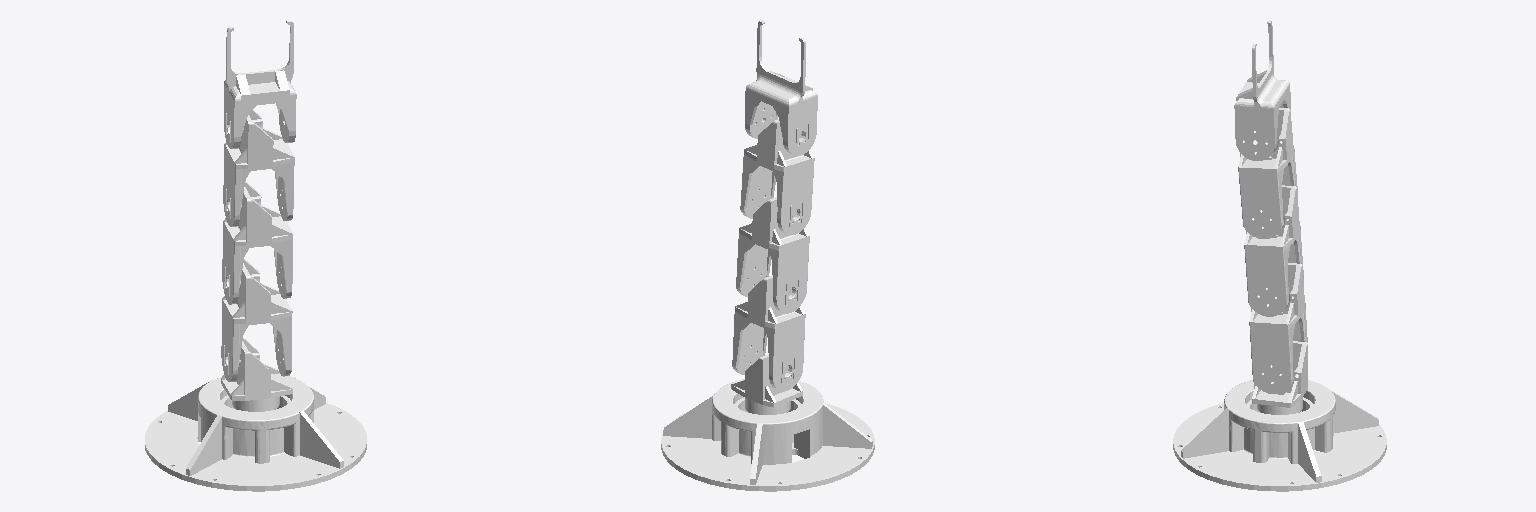
The robot description file, URDF, robot "myarm":
<robot
  name="myarm">
  <link
    name="base_link">
    <inertial>
      <origin
        xyz="0.27085 -0.053615 -0.26586"
        rpy="0 0 0" />
      <mass
        value="0.354" />
      <inertia
        ixx="0.00060153"
        ixy="2.9029E-06"
        ixz="-2.7643E-07"
        iyy="0.0010552"
        iyz="1.3951E-06"
        izz="0.00059939" />
    </inertial>
    <visual>
      <origin
        xyz="0 0 0"
        rpy="0 0 0" />
      <geometry>
        <mesh
          filename="package://myarm/meshes/base_link.STL" />
      </geometry>
      <material
        name="">
        <color
          rgba="1 1 1 1" />
      </material>
    </visual>
    <collision>
      <origin
        xyz="0 0 0"
        rpy="0 0 0" />
      <geometry>
        <mesh
          filename="package://myarm/meshes/base_link.STL" />
      </geometry>
    </collision>
  </link>
  <link
    name="Link0">
    <inertial>
      <origin
        xyz="0.0028026 0.013893 -1.2684E-06"
        rpy="0 0 0" />
      <mass
        value="0.045443" />
      <inertia
        ixx="1.6117E-05"
        ixy="-2.2584E-06"
        ixz="-4.8228E-11"
        iyy="1.3983E-05"
        iyz="8.439E-10"
        izz="1.439E-05" />
    </inertial>
    <visual>
      <origin
        xyz="0 0 0"
        rpy="0 0 0" />
      <geometry>
        <mesh
          filename="package://myarm/meshes/Link0.STL" />
      </geometry>
      <material
        name="">
        <color
          rgba="1 1 1 1" />
      </material>
    </visual>
    <collision>
      <origin
        xyz="0 0 0"
        rpy="0 0 0" />
      <geometry>
        <mesh
          filename="package://myarm/meshes/Link0.STL" />
      </geometry>
    </collision>
  </link>
  <joint
    name="joint0"
    type="revolute">
    <origin
      xyz="0.27135 0.26556 -0.023642"
      rpy="1.5708 1.6316E-17 2.872" />
    <parent
      link="base_link" />
    <child
      link="Link0" />
    <axis
      xyz="0 1 0" />
    <limit
      lower="-2.36"
      upper="2.36"
      effort="0"
      velocity="0" />
  </joint>
  <link
    name="Link1">
    <inertial>
      <origin
        xyz="-1.8999E-09 0.038517 0.023376"
        rpy="0 0 0" />
      <mass
        value="0.059624" />
      <inertia
        ixx="5.7861E-05"
        ixy="-2.4536E-11"
        ixz="-1.5929E-12"
        iyy="2.9224E-05"
        iyz="4.6677E-06"
        izz="4.8415E-05" />
    </inertial>
    <visual>
      <origin
        xyz="0 0 0"
        rpy="0 0 0" />
      <geometry>
        <mesh
          filename="package://myarm/meshes/Link1.STL" />
      </geometry>
      <material
        name="">
        <color
          rgba="1 1 1 1" />
      </material>
    </visual>
    <collision>
      <origin
        xyz="0 0 0"
        rpy="0 0 0" />
      <geometry>
        <mesh
          filename="package://myarm/meshes/Link1.STL" />
      </geometry>
    </collision>
  </link>
  <joint
    name="joint1"
    type="revolute">
    <origin
      xyz="0.0254 0.0365 0"
      rpy="-1.5708 -1.5136 1.5708" />
    <parent
      link="Link0" />
    <child
      link="Link1" />
    <axis
      xyz="0 0 1" />
    <limit
      lower="-2.36"
      upper="2.36"
      effort="0"
      velocity="0" />
  </joint>
  <link
    name="Link2">
    <inertial>
      <origin
        xyz="-1.5797E-09 0.038517 0.023376"
        rpy="0 0 0" />
      <mass
        value="0.059624" />
      <inertia
        ixx="5.7861E-05"
        ixy="-2.47E-11"
        ixz="-1.6726E-12"
        iyy="2.9224E-05"
        iyz="4.6677E-06"
        izz="4.8415E-05" />
    </inertial>
    <visual>
      <origin
        xyz="0 0 0"
        rpy="0 0 0" />
      <geometry>
        <mesh
          filename="package://myarm/meshes/Link2.STL" />
      </geometry>
      <material
        name="">
        <color
          rgba="1 1 1 1" />
      </material>
    </visual>
    <collision>
      <origin
        xyz="0 0 0"
        rpy="0 0 0" />
      <geometry>
        <mesh
          filename="package://myarm/meshes/Link2.STL" />
      </geometry>
    </collision>
  </link>
  <joint
    name="joint2"
    type="revolute">
    <origin
      xyz="0 0.0745 -0.0004"
      rpy="2.3107E-15 5.5511E-17 0.010465" />
    <parent
      link="Link1" />
    <child
      link="Link2" />
    <axis
      xyz="0 0 1" />
    <limit
      lower="-2.36"
      upper="2.36"
      effort="0"
      velocity="0" />
  </joint>
  <link
    name="Link3">
    <inertial>
      <origin
        xyz="-1.2897E-08 0.038517 0.023376"
        rpy="0 0 0" />
      <mass
        value="0.059624" />
      <inertia
        ixx="5.7861E-05"
        ixy="-3.4206E-11"
        ixz="-1.1624E-11"
        iyy="2.9224E-05"
        iyz="4.6677E-06"
        izz="4.8415E-05" />
    </inertial>
    <visual>
      <origin
        xyz="0 0 0"
        rpy="0 0 0" />
      <geometry>
        <mesh
          filename="package://myarm/meshes/Link3.STL" />
      </geometry>
      <material
        name="">
        <color
          rgba="1 1 1 1" />
      </material>
    </visual>
    <collision>
      <origin
        xyz="0 0 0"
        rpy="0 0 0" />
      <geometry>
        <mesh
          filename="package://myarm/meshes/Link3.STL" />
      </geometry>
    </collision>
  </link>
  <joint
    name="joint3"
    type="revolute">
    <origin
      xyz="0 0.0745 -0.0004"
      rpy="-4.9266E-16 -1.6653E-16 0.011929" />
    <parent
      link="Link2" />
    <child
      link="Link3" />
    <axis
      xyz="0 0 1" />
    <limit
      lower="-2.36"
      upper="2.36"
      effort="0"
      velocity="0" />
  </joint>
  <link
    name="Link4">
    <inertial>
      <origin
        xyz="-0.00019736 0.02219 0.027134"
        rpy="0 0 0" />
      <mass
        value="0.041798" />
      <inertia
        ixx="3.3475E-05"
        ixy="9.0738E-08"
        ixz="-1.106E-09"
        iyy="2.3209E-05"
        iyz="1.5196E-07"
        izz="1.9479E-05" />
    </inertial>
    <visual>
      <origin
        xyz="0 0 0"
        rpy="0 0 0" />
      <geometry>
        <mesh
          filename="package://myarm/meshes/Link4.STL" />
      </geometry>
      <material
        name="">
        <color
          rgba="1 1 1 1" />
      </material>
    </visual>
    <collision>
      <origin
        xyz="0 0 0"
        rpy="0 0 0" />
      <geometry>
        <mesh
          filename="package://myarm/meshes/Link4.STL" />
      </geometry>
    </collision>
  </link>
  <joint
    name="joint4"
    type="revolute">
    <origin
      xyz="0 0.0745 -0.0014"
      rpy="-4.3819E-15 -2.7756E-16 -0.047644" />
    <parent
      link="Link3" />
    <child
      link="Link4" />
    <axis
      xyz="0 0 1" />
    <limit
      lower="-2.36"
      upper="2.36"
      effort="0"
      velocity="0" />
  </joint>
</robot>

--- Render facts (derived) ---
The picture shows the robot from 3 angles, left to right: view 1: azimuth 30°, elevation 25°; view 2: azimuth 150°, elevation 25°; view 3: azimuth 270°, elevation 25°; orthographic projection.
Robot: myarm — 6 links, 5 joints (5 revolute); root link base_link; default pose: every joint at zero.
Links seen in each view (by area): view 1: base_link, Link1, Link2, Link3, Link4, Link0; view 2: base_link, Link1, Link3, Link2, Link4, Link0; view 3: base_link, Link2, Link3, Link1, Link4, Link0.
Boxes of the visible links, box(x1,y1,x2,y2) form: base_link: box(145, 376, 366, 491); Link1: box(221, 259, 292, 381); Link2: box(222, 181, 292, 304); Link3: box(223, 110, 294, 226); Link4: box(224, 21, 296, 148); Link0: box(221, 338, 292, 411); base_link: box(661, 379, 874, 491); Link1: box(732, 275, 805, 391); Link3: box(740, 120, 814, 234); Link2: box(736, 197, 809, 313); Link4: box(745, 20, 817, 155); Link0: box(731, 354, 802, 414); base_link: box(1173, 380, 1386, 491); Link2: box(1244, 185, 1303, 316); Link3: box(1238, 108, 1297, 238); Link1: box(1249, 263, 1307, 393); Link4: box(1234, 21, 1290, 160); Link0: box(1252, 341, 1307, 414).
Size in the robot's own frame: 0.1877 by 0.1878 by 0.3985 metres.
Meshes: 6 distinct files referenced, 6 mesh visuals loaded (6 binary STL).